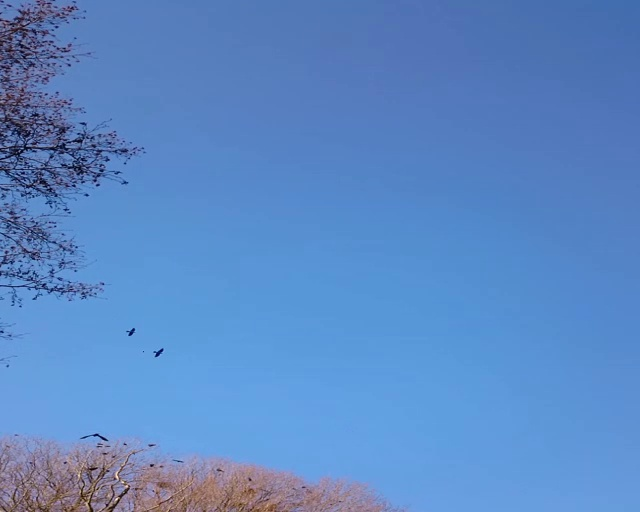BIRD: (151, 347, 164, 358)
